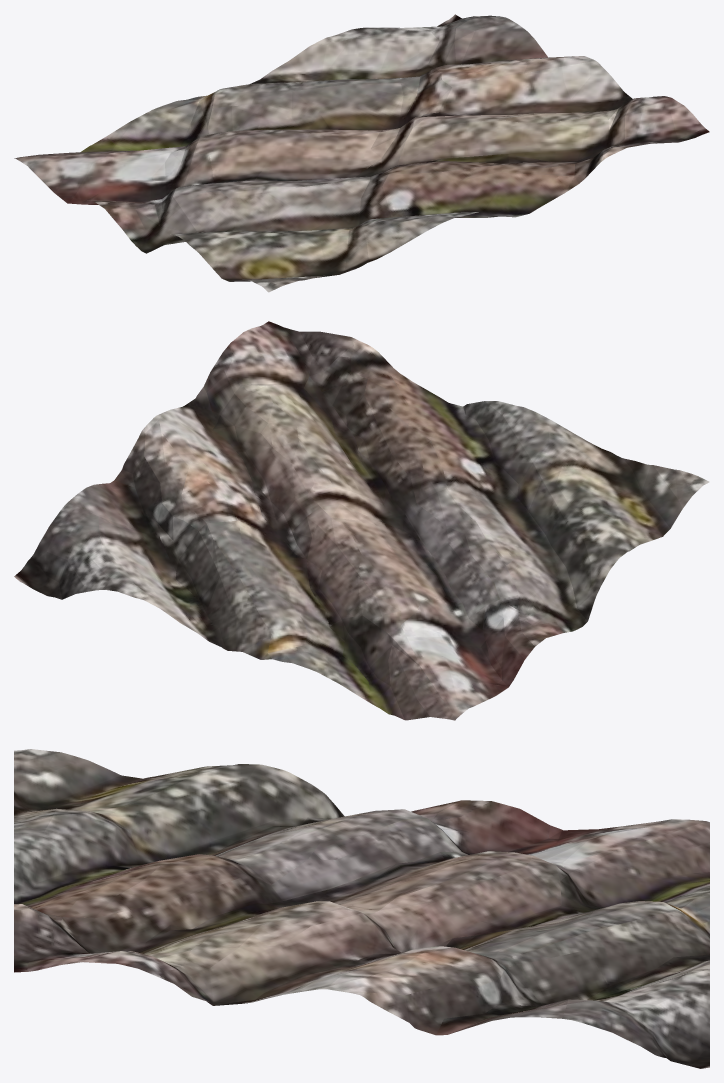
3 views of the same model, one above another, from view 1: azimuth 30°, elevation 25°; view 2: azimuth 150°, elevation 25°; view 3: azimuth 270°, elevation 25° (orthographic). The views are drawn at different scales.
Bounding box in the file's own units: 0.8374 × 0.2263 × 0.8374.
Materials: 3 (3 with a texture image).
